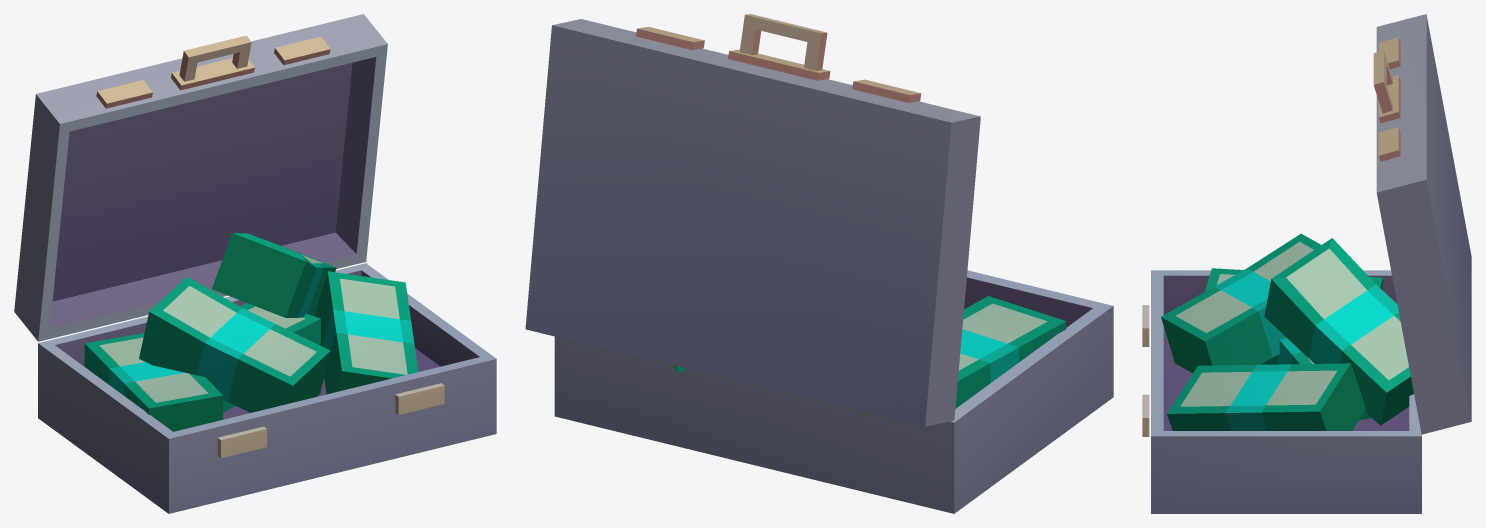
Rendered from colect_money.glb.
3 views of the same model, side by side, from view 1: azimuth 30°, elevation 25°; view 2: azimuth 150°, elevation 25°; view 3: azimuth 270°, elevation 25° (orthographic). The views are drawn at different scales.
Visible parts, largest first — view 1: colect_money; view 2: colect_money; view 3: colect_money.
Boxes of the visible parts, x1,y1,x2,y2 form: colect_money: [14, 14, 496, 513]; colect_money: [525, 14, 1113, 513]; colect_money: [1142, 14, 1471, 513].
Size of the model in its own units: 0.431 by 0.4394 by 0.3616.
